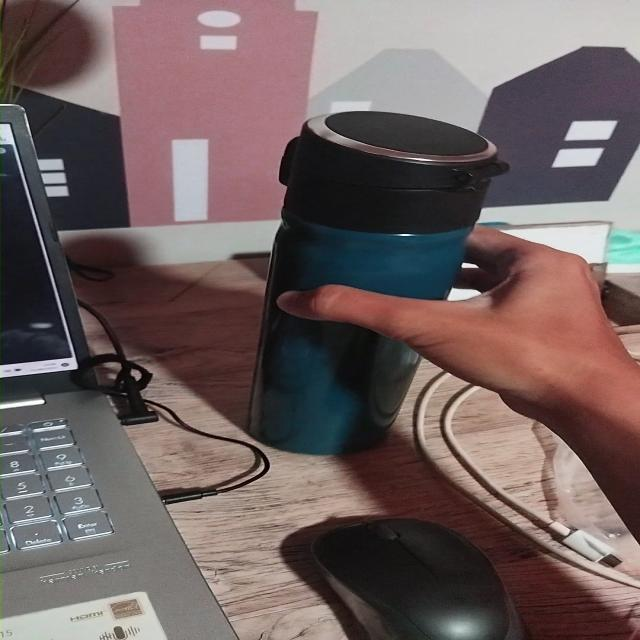bottle: (243, 108, 510, 454)
